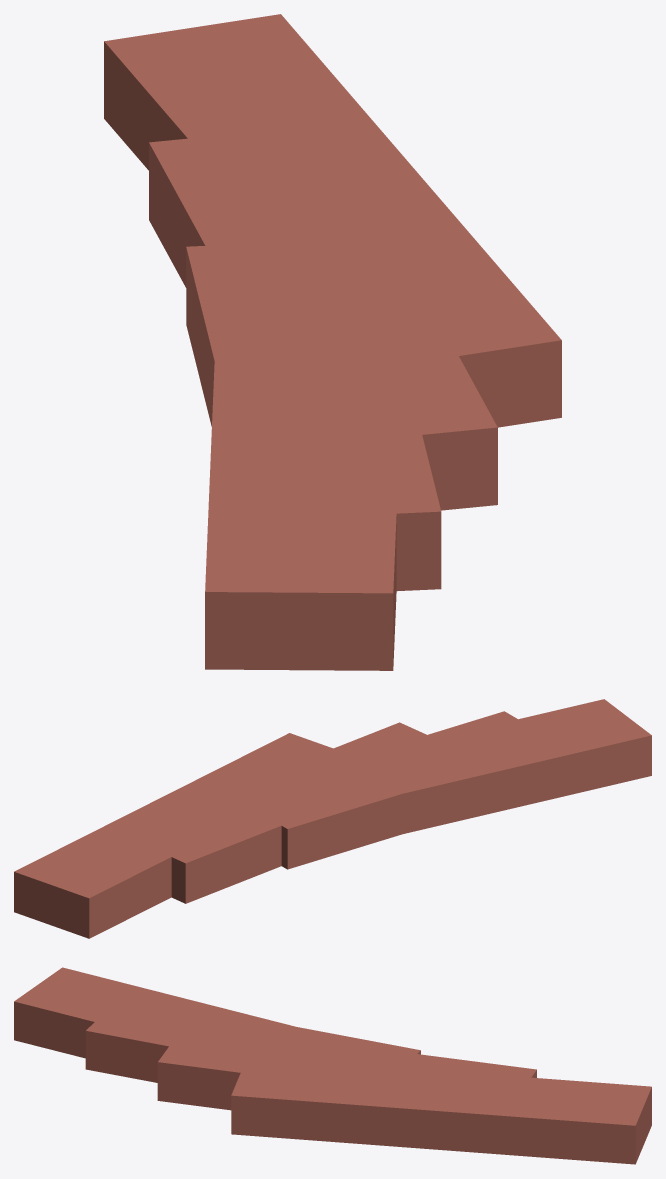
File: hua_wing_red.glb
3 renders of one model, top to bottom at view 1: azimuth 30°, elevation 25°; view 2: azimuth 150°, elevation 25°; view 3: azimuth 270°, elevation 25°, orthographic. The views are drawn at different scales.
Visible parts, largest first — view 1: world; view 2: world; view 3: world.
Boxes of the visible parts, box(x1,y1,x2,y2) form: world: box(104, 14, 561, 670); world: box(14, 699, 651, 938); world: box(14, 967, 651, 1164).
Bounding box in the file's own units: 0.219 × 0.025 × 0.3728.
